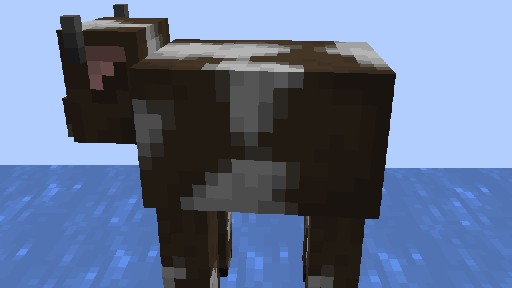cow: (55, 3, 395, 288)
